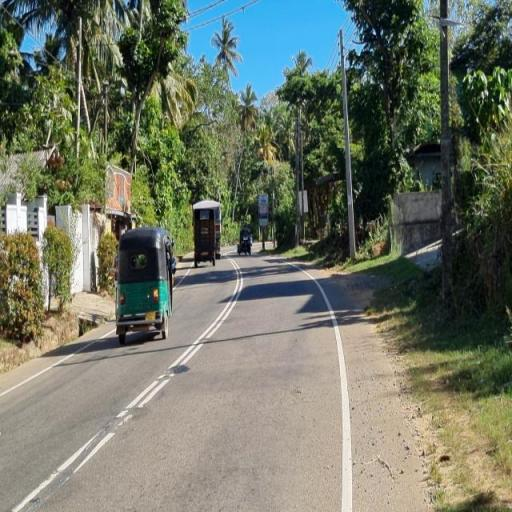double_white_line: (112, 258, 241, 424)
